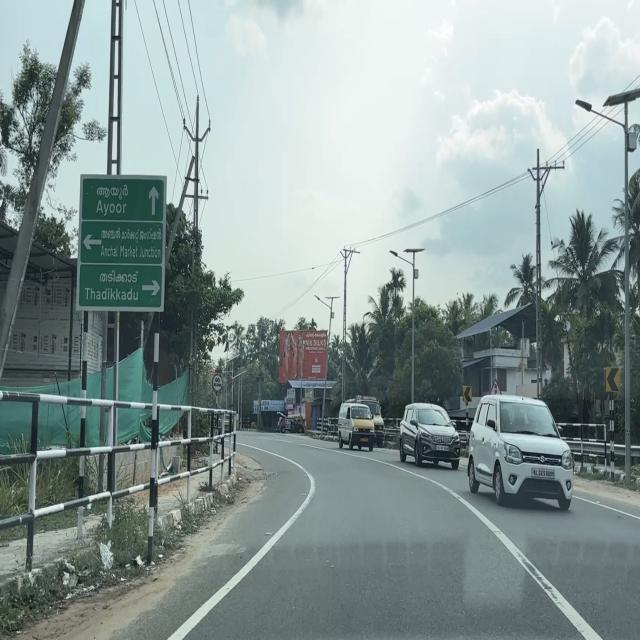GENERAL: (75, 172, 168, 314)
GO_SLOW: (211, 373, 223, 391)
TURN_LEFT: (603, 364, 621, 394), (462, 386, 472, 402)
